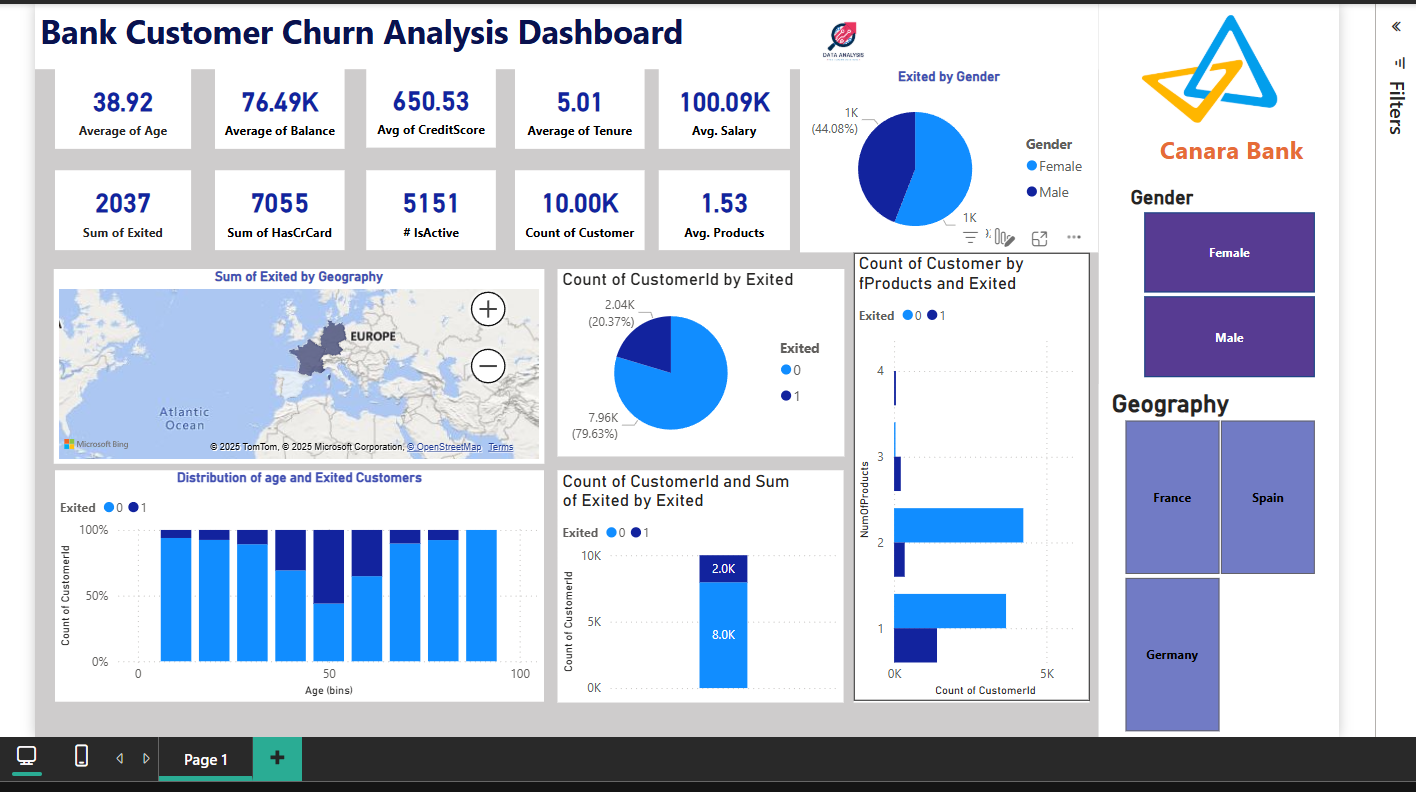

This screenshot's page, from the dashboard's own definition file:
{"tool":"powerbi","page":{"name":"Page 1","canvas":[1280,720],"ordinal":0},"visuals":[{"type":"textbox","box":[0,0,1043.8,63.8],"z":0},{"type":"shape","box":[1043.8,0,236.2,720],"z":1000},{"type":"image","box":[687.5,0,212.5,72.5],"z":2000},{"type":"image","box":[1062.5,6.2,181.2,115],"z":3000},{"type":"card","fields":{"Values":["Avg(Churn_Modelling.Age)"]},"box":[20,63.8,133.8,78.8],"z":4000},{"type":"card","fields":{"Values":["Avg(Churn_Modelling.Balance)"]},"box":[176.2,63.8,127.5,78.8],"z":5000},{"type":"card","fields":{"Values":["Avg(Churn_Modelling.CreditScore)"]},"box":[325,62.5,127.5,78.8],"z":6000},{"type":"card","fields":{"Values":["Avg(Churn_Modelling.Tenure)"]},"box":[471.2,63.8,127.5,78.8],"z":7000},{"type":"card","fields":{"Values":["Avg(Churn_Modelling.EstimatedSalary)"]},"box":[612.5,63.8,128.8,78.8],"z":8000},{"type":"card","fields":{"Values":["Sum(Churn_Modelling.Exited)"]},"box":[20,163.8,133.8,78.8],"z":9000},{"type":"card","fields":{"Values":["Sum(Churn_Modelling.HasCrCard)"]},"box":[176.2,163.8,127.5,78.8],"z":10000},{"type":"card","fields":{"Values":["Sum(Churn_Modelling.IsActiveMember)"]},"box":[325,163.8,127.5,78.8],"z":11000},{"type":"card","fields":{"Values":["Avg(Churn_Modelling.NumOfProducts)"]},"box":[612.5,163.8,128.8,78.8],"z":12000},{"type":"card","fields":{"Values":["CountNonNull(Churn_Modelling.CustomerId)"]},"box":[471.2,163.8,127.5,78.8],"z":13000},{"type":"slicer","fields":{"Values":["Churn_Modelling.Gender"]},"box":[1062.5,173.8,217.5,198.8],"z":14000},{"type":"slicer","fields":{"Values":["Churn_Modelling.Geography"]},"box":[1043.8,372.5,236.2,347.5],"z":15000},{"type":"pieChart","title":"Exited by Gender","fields":{"Category":["Churn_Modelling.Gender"],"Y":["Sum(Churn_Modelling.Exited)"]},"box":[751.2,63.8,292.5,180],"z":16000},{"type":"filledMap","fields":{"Category":["Churn_Modelling.Geography"]},"box":[18.8,260,481.2,191.2],"z":17000},{"type":"hundredPercentStackedColumnChart","title":"Distribution of age and Exited Customers","fields":{"Category":["Churn_Modelling.Age (bins)"],"Y":["CountNonNull(Churn_Modelling.CustomerId)"],"Series":["Churn_Modelling.Exited"]},"box":[20,457.5,480,227.5],"z":18000},{"type":"clusteredBarChart","title":"Count of Customer by fProducts and Exited","fields":{"Category":["Churn_Modelling.NumOfProducts"],"Y":["CountNonNull(Churn_Modelling.CustomerId)"],"Series":["Churn_Modelling.Exited"]},"box":[803.8,243.8,231.2,441.2],"z":19000},{"type":"pieChart","fields":{"Category":["Churn_Modelling.Exited"],"Y":["CountNonNull(Churn_Modelling.CustomerId)"]},"box":[512.5,260,281.2,183.8],"z":20000},{"type":"columnChart","fields":{"Series":["Churn_Modelling.Exited"],"Y":["CountNonNull(Churn_Modelling.CustomerId)"]},"box":[513,458,281,228],"z":21000},{"type":"textbox","box":[1100,121.2,170,42.5],"z":22000}]}

Visuals, with their boxes on the page's 1280x720 design canvas (x1, y1, x2, y2). These are canvas units, not pixel positions in the 1416x792 screenshot, which may show the page scaled, cropped or inside an application window:
textbox: <bbox>0, 0, 1044, 64</bbox>
shape: <bbox>1044, 0, 1280, 720</bbox>
image: <bbox>688, 0, 900, 72</bbox>
image: <bbox>1062, 6, 1244, 121</bbox>
card - Avg(Churn_Modelling.Age): <bbox>20, 64, 154, 143</bbox>
card - Avg(Churn_Modelling.Balance): <bbox>176, 64, 304, 143</bbox>
card - Avg(Churn_Modelling.CreditScore): <bbox>325, 62, 452, 141</bbox>
card - Avg(Churn_Modelling.Tenure): <bbox>471, 64, 599, 143</bbox>
card - Avg(Churn_Modelling.EstimatedSalary): <bbox>612, 64, 741, 143</bbox>
card - Sum(Churn_Modelling.Exited): <bbox>20, 164, 154, 243</bbox>
card - Sum(Churn_Modelling.HasCrCard): <bbox>176, 164, 304, 243</bbox>
card - Sum(Churn_Modelling.IsActiveMember): <bbox>325, 164, 452, 243</bbox>
card - Avg(Churn_Modelling.NumOfProducts): <bbox>612, 164, 741, 243</bbox>
card - CountNonNull(Churn_Modelling.CustomerId): <bbox>471, 164, 599, 243</bbox>
slicer - Churn_Modelling.Gender: <bbox>1062, 174, 1280, 373</bbox>
slicer - Churn_Modelling.Geography: <bbox>1044, 372, 1280, 720</bbox>
"Exited by Gender" pieChart: <bbox>751, 64, 1044, 244</bbox>
filledMap - Churn_Modelling.Geography: <bbox>19, 260, 500, 451</bbox>
"Distribution of age and Exited Customers" hundredPercentStackedColumnChart: <bbox>20, 458, 500, 685</bbox>
"Count of Customer by fProducts and Exited" clusteredBarChart: <bbox>804, 244, 1035, 685</bbox>
pieChart - Churn_Modelling.Exited x CountNonNull(Churn_Modelling.CustomerId): <bbox>512, 260, 794, 444</bbox>
columnChart - Churn_Modelling.Exited x CountNonNull(Churn_Modelling.CustomerId): <bbox>513, 458, 794, 686</bbox>
textbox: <bbox>1100, 121, 1270, 164</bbox>
